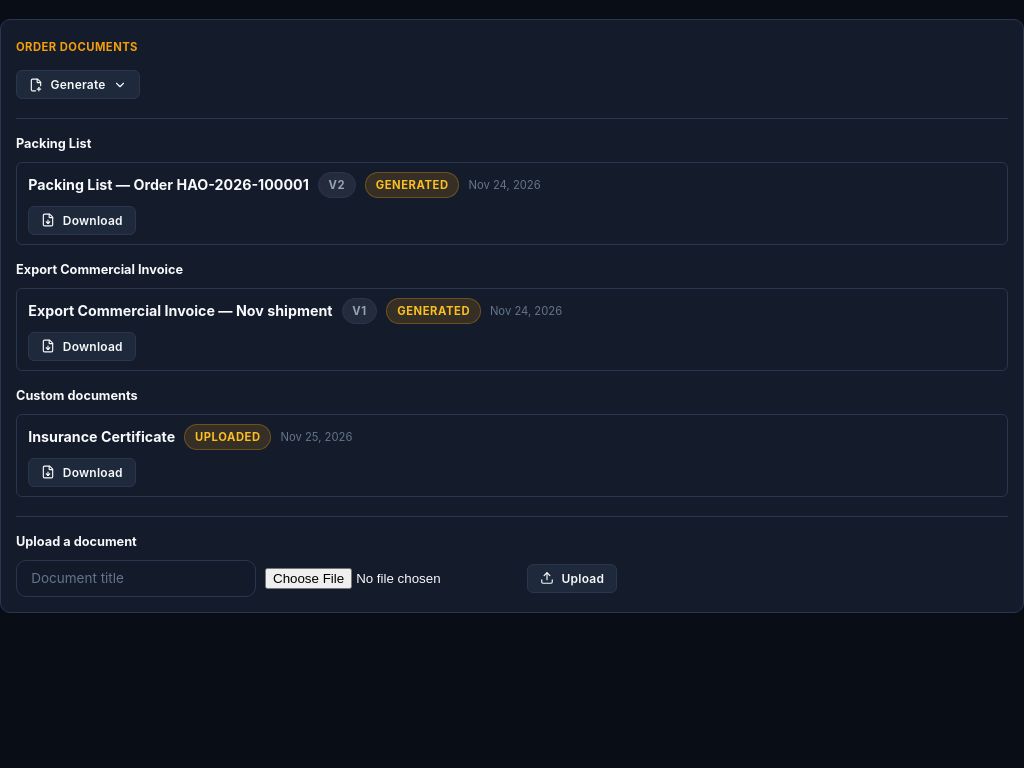
it: DocumentsPanel — buyer generate refused › hides the generate menu without an alarming error on a 403
The width and height of the screenshot is (1024, 768).
Click the button "Generate": (78, 84) 16,70 -> 140,99
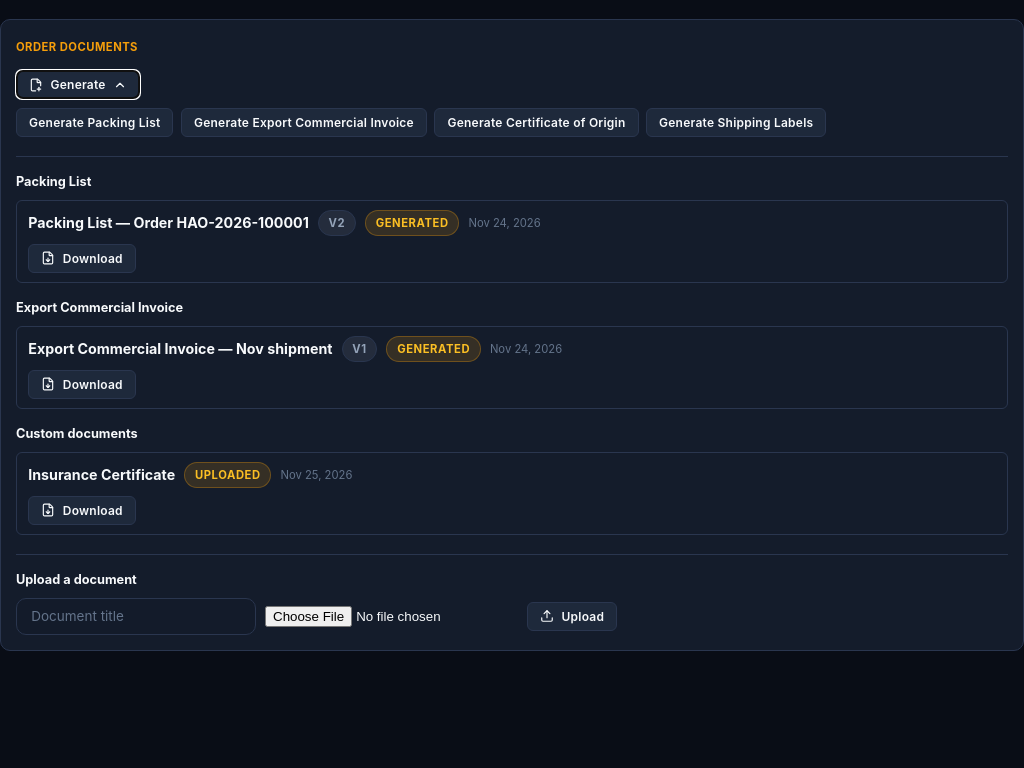
Click the button "Generate Packing List": (95, 122) 16,108 -> 174,137
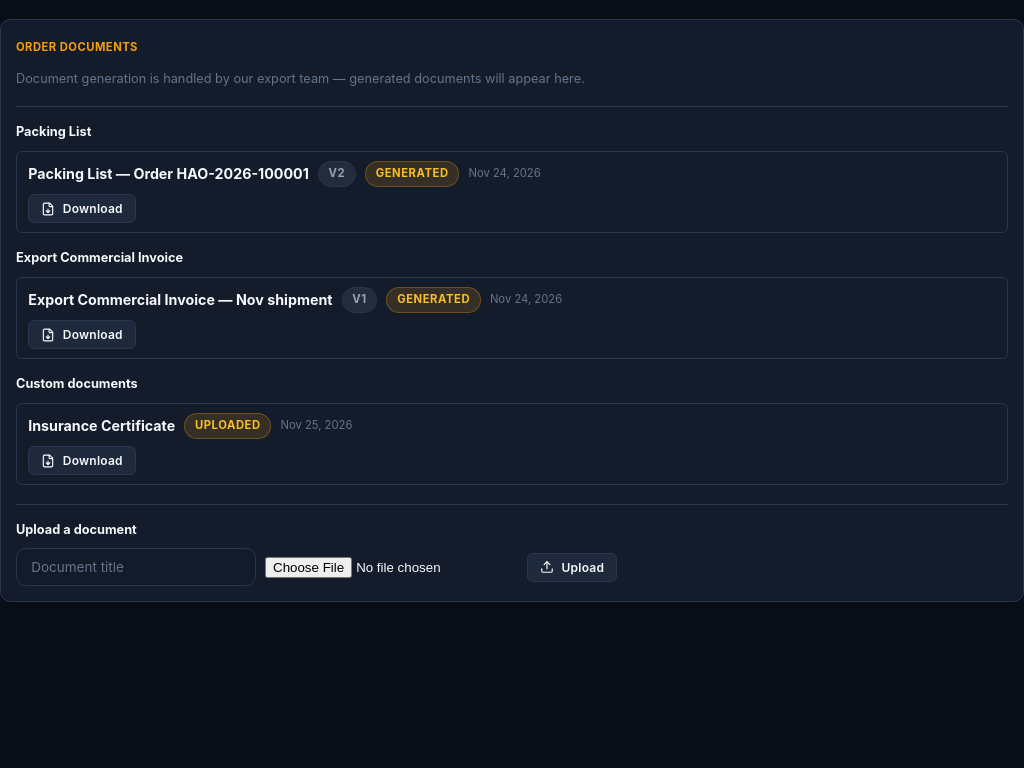
Result: the text "Document generation is handled by our export team" is shown at 16,70 -> 585,86
